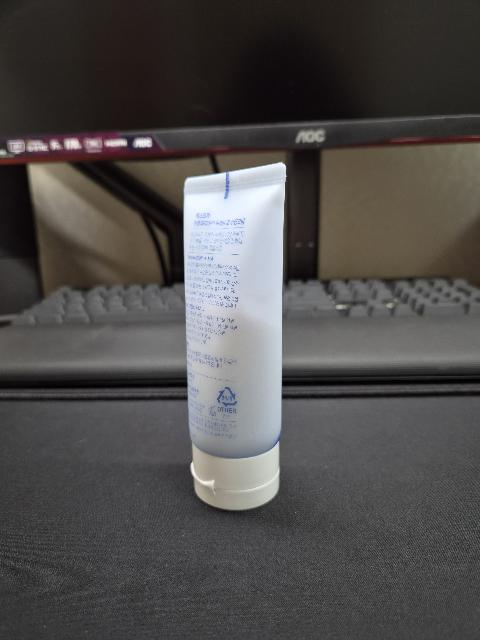handcream: (183, 162, 287, 509)
